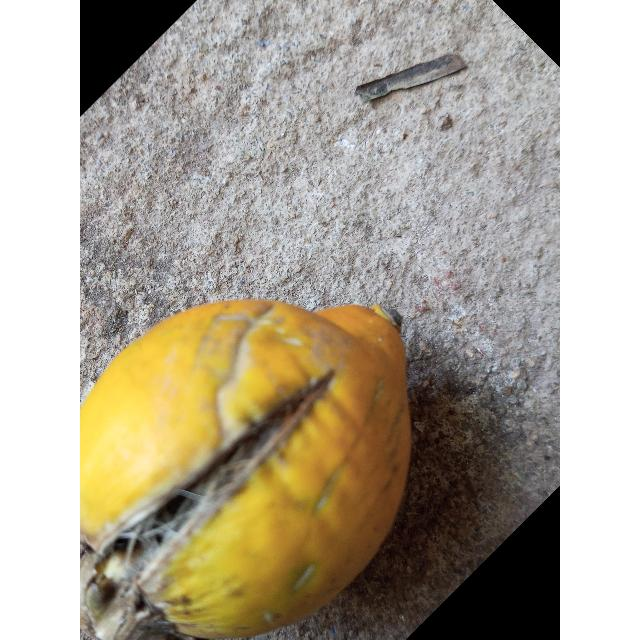damaged: (80, 298, 412, 640)
